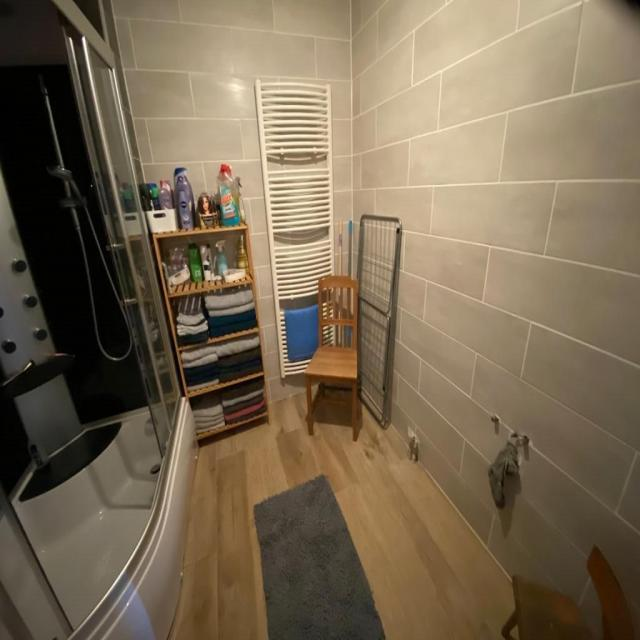designradiator: (255, 78, 337, 380)
douche: (0, 0, 199, 640)
